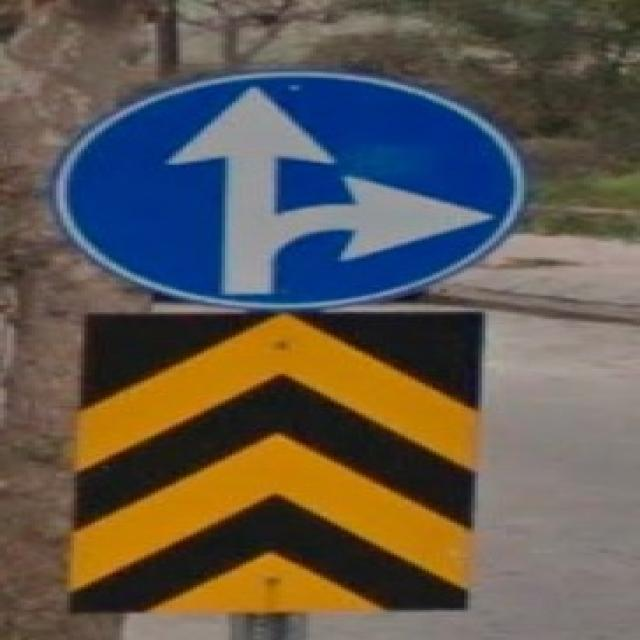Straight or Right: (68, 75, 518, 302)
